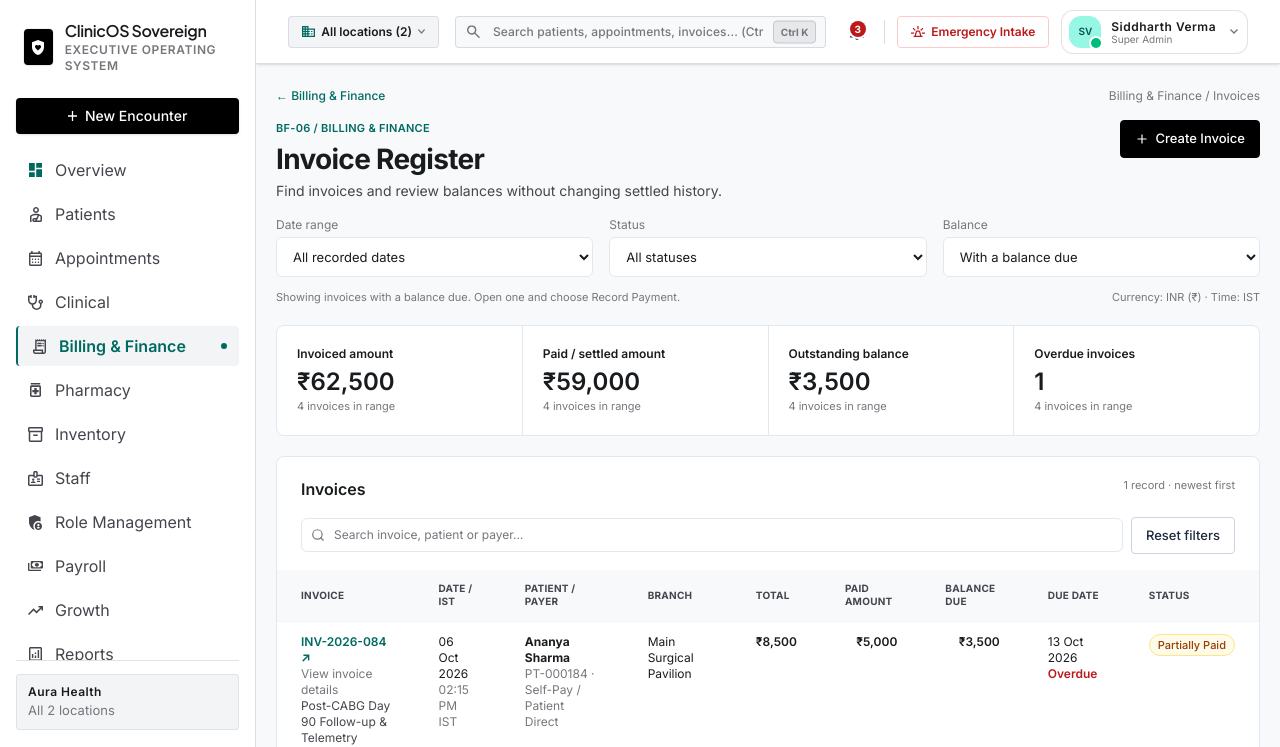
it: invoice register › finds an invoice by number and shows only invoices with a balance on request
The image size is (1280, 747).
Check: the number of links "INV-2026-084 ↗" is 1, box [301,634,386,665]
Click the button "Reset filters". click: (1183, 535)
box: [1131,516,1235,554]
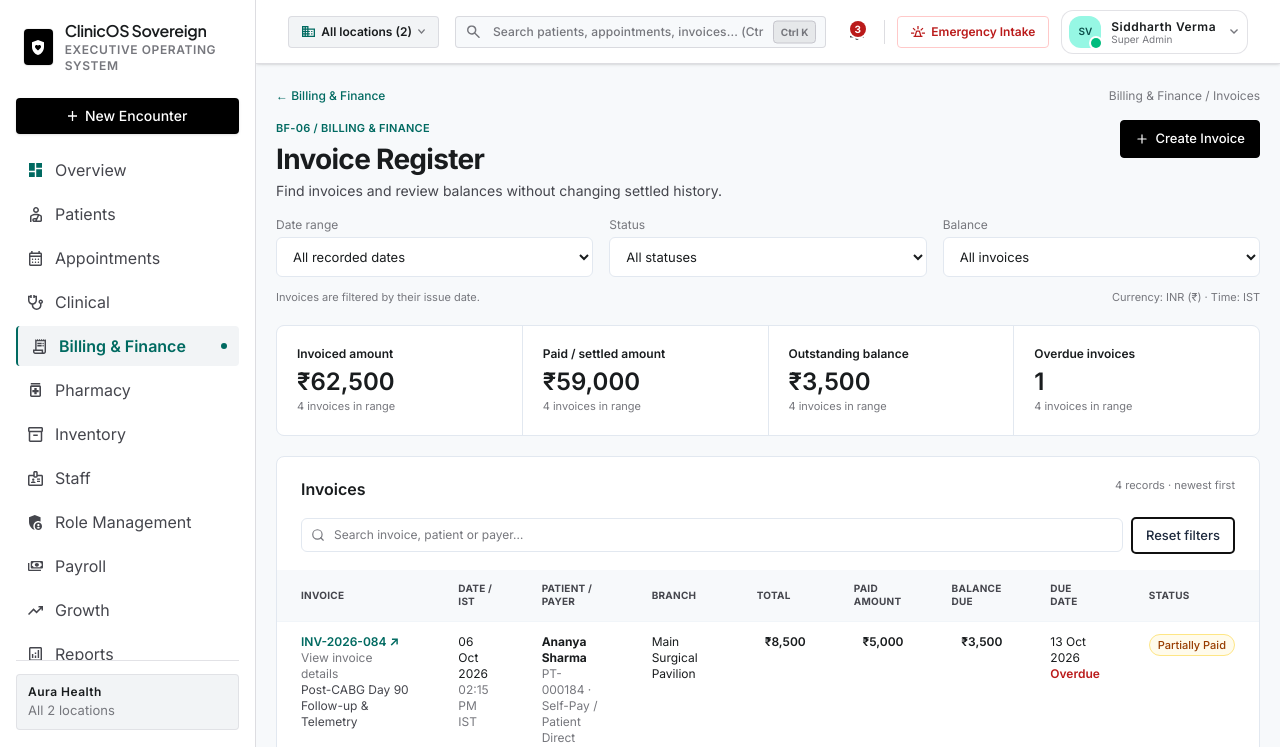
Type "INV-2026-071" into the search field named "Search invoices". click: (712, 535)
box: [301,518,1123,552]
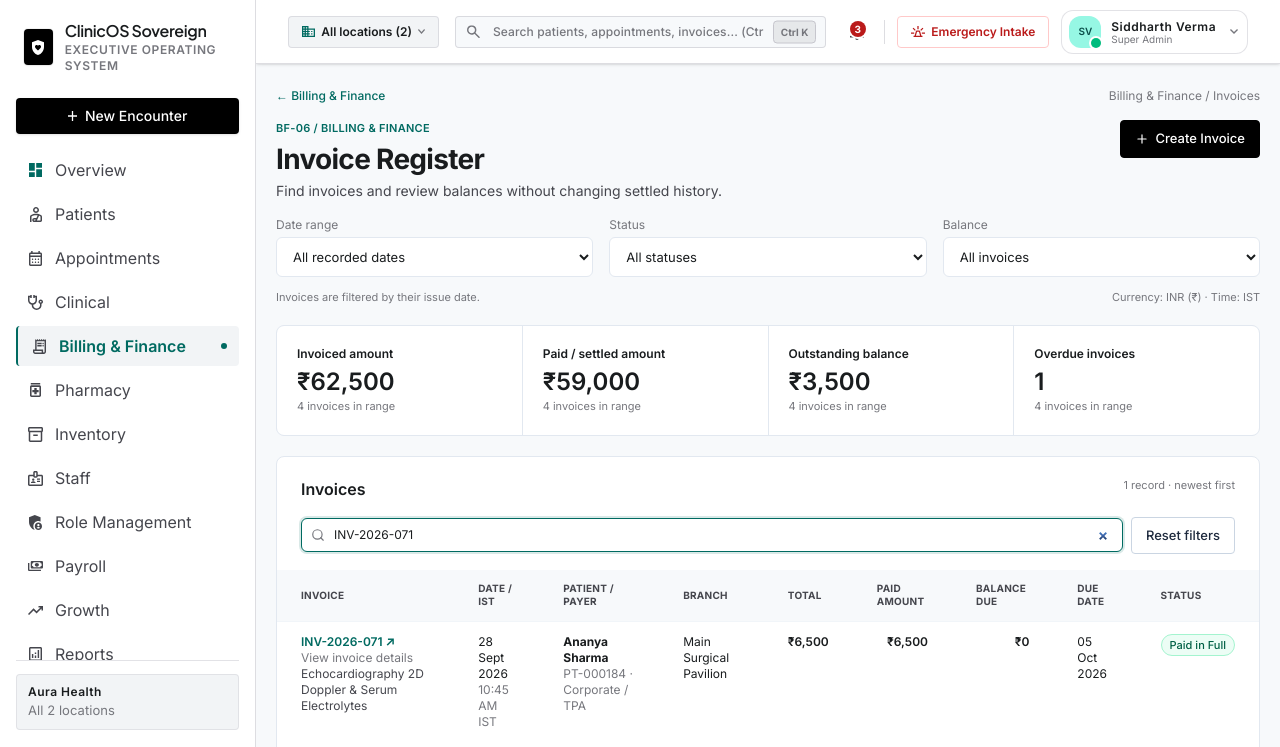
Check: the number of links "INV-2026-071 ↗" is 1, box [301,634,395,649]
